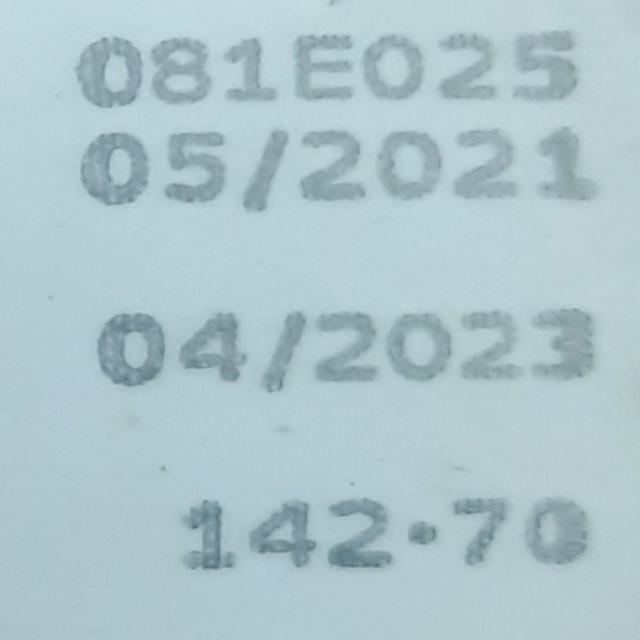sentence: (83, 128, 595, 211), (97, 309, 594, 392), (75, 30, 576, 108), (178, 498, 590, 569)
